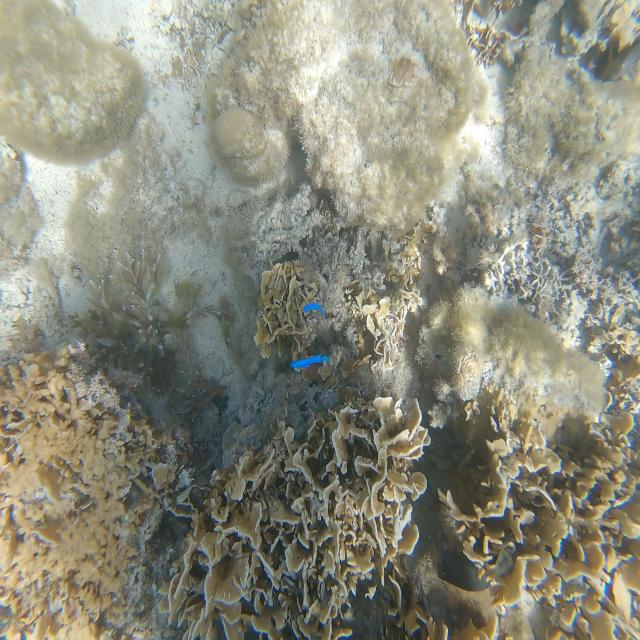rurisuzumedai: (291, 355, 328, 371), (304, 303, 324, 316)
